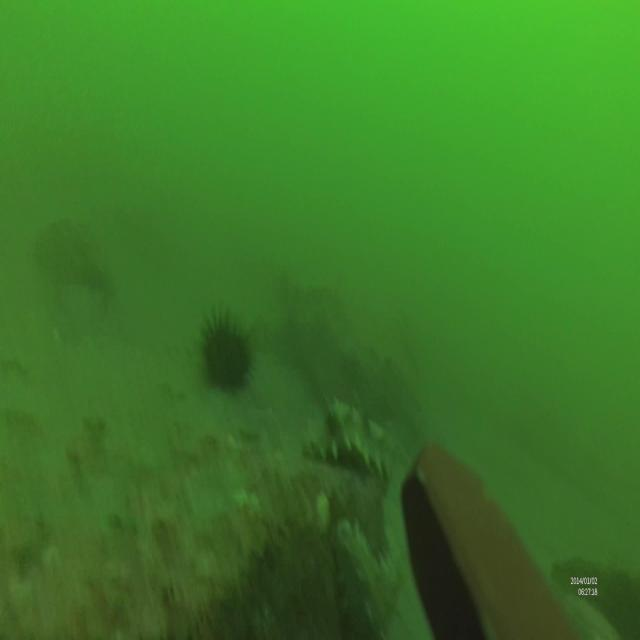echinus: (198, 307, 258, 399)
holothurian: (305, 398, 393, 481)
